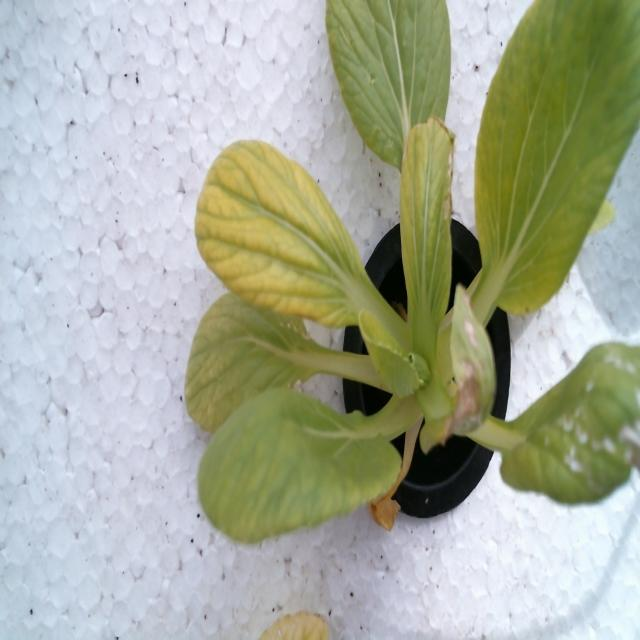pakcoy_tidak_sehat: (166, 0, 640, 577)
